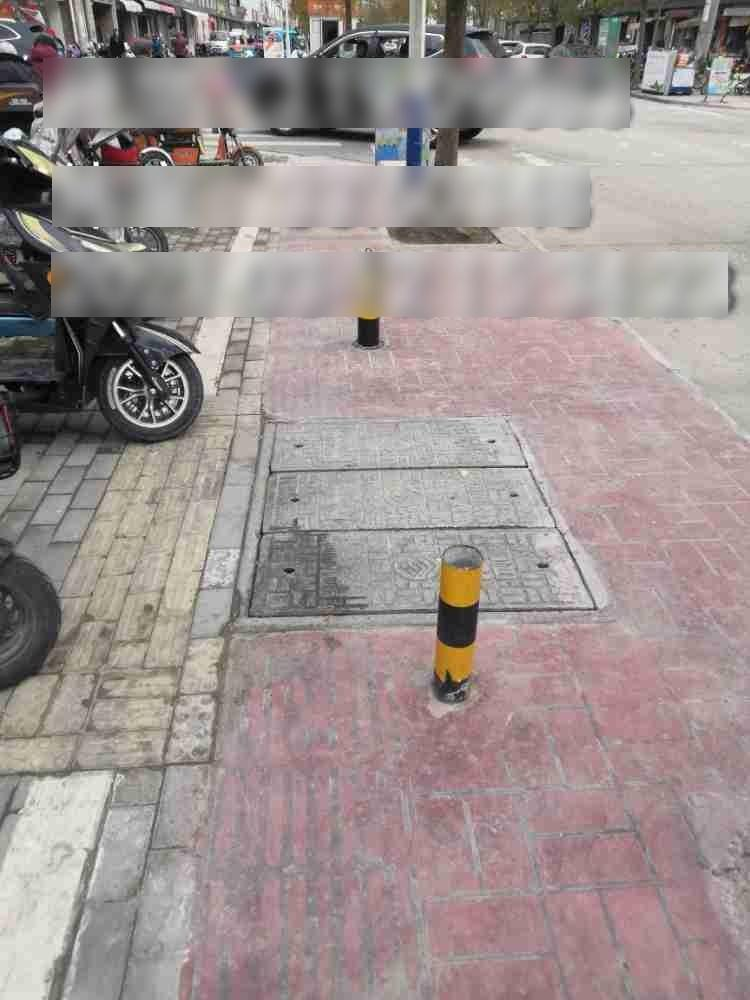wellcover: (232, 402, 616, 627)
